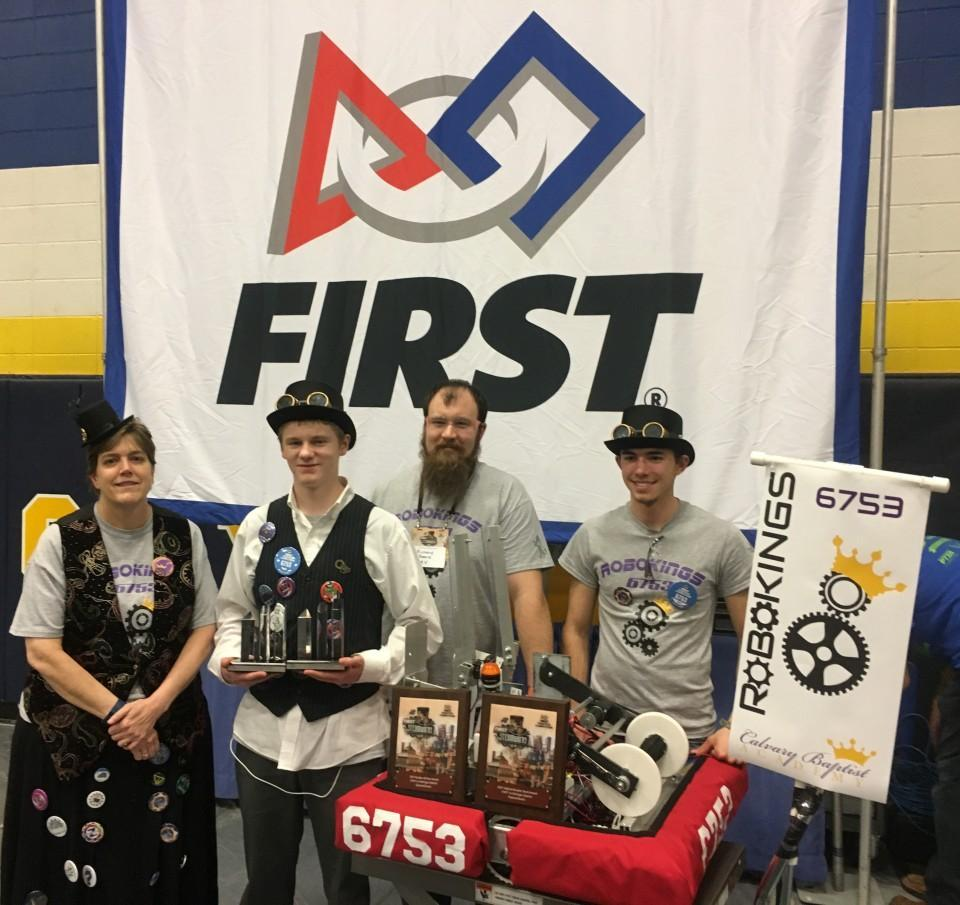robot: (335, 640, 761, 905)
